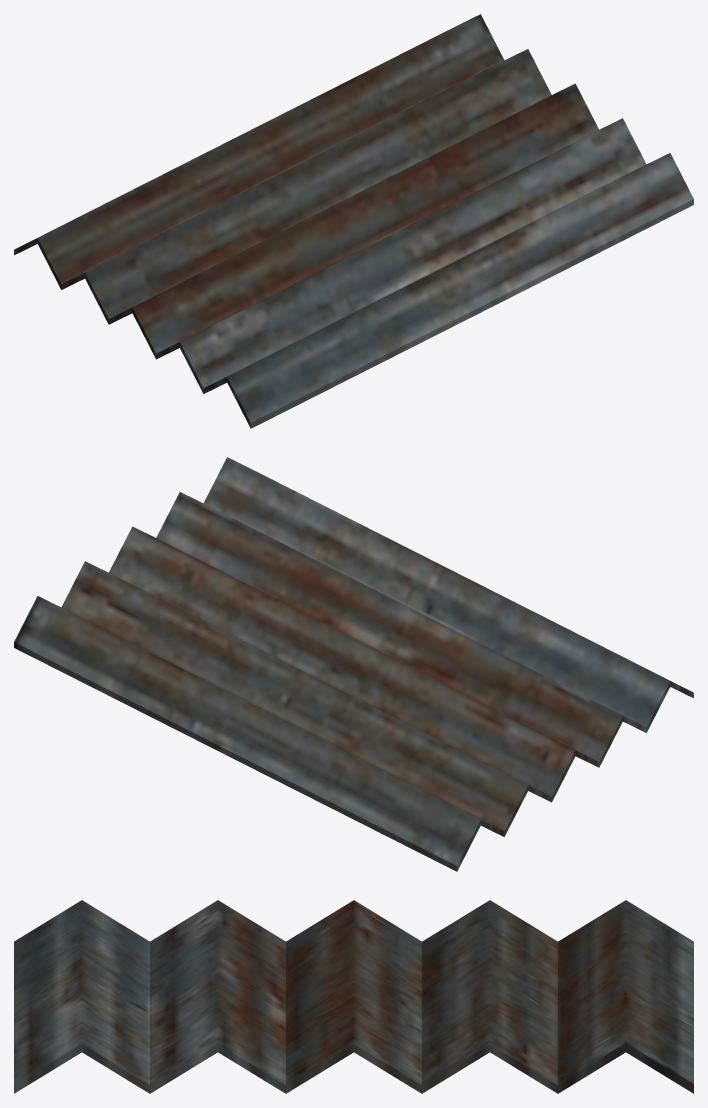
Rendered from roof_hr_3_side_2_angle_corner_2.obj.
3 views of the same model, one above another, from view 1: azimuth 30°, elevation 25°; view 2: azimuth 150°, elevation 25°; view 3: azimuth 270°, elevation 25° (orthographic). The views are drawn at different scales.
Visible parts, largest first — view 1: roof_hr_3_side_2_angle_corner_2; view 2: roof_hr_3_side_2_angle_corner_2; view 3: roof_hr_3_side_2_angle_corner_2.
Boxes of the visible parts, x1,y1,x2,y2 form: roof_hr_3_side_2_angle_corner_2: (14,14,693,428); roof_hr_3_side_2_angle_corner_2: (14,457,693,871); roof_hr_3_side_2_angle_corner_2: (14,900,693,1093).
Size of the model in its own units: 0.8 by 0.26 by 0.7407.
